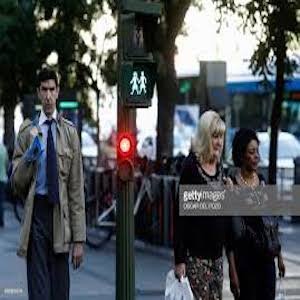green: (125, 69, 153, 100)
